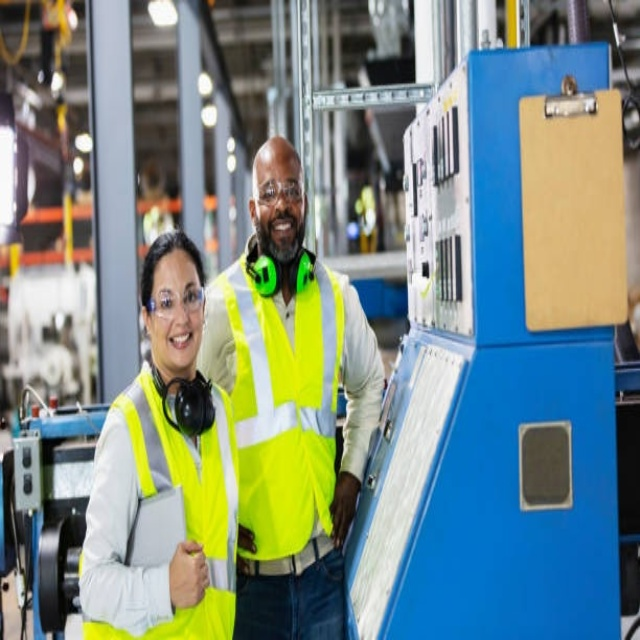Gafas: (147, 287, 205, 318), (255, 179, 305, 205)
Sin_guantes: (168, 534, 211, 603), (332, 468, 362, 555)
Sin_mascara: (267, 216, 297, 242), (169, 329, 201, 353)
